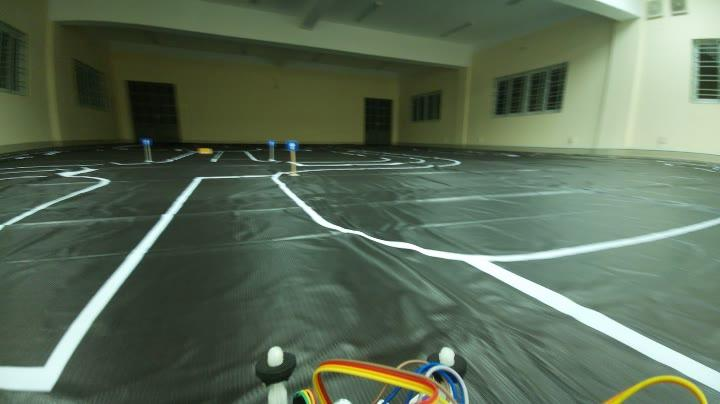onewayroad: (285, 136, 302, 154), (142, 134, 152, 146), (267, 138, 277, 148)
roadblock: (196, 144, 214, 156)
